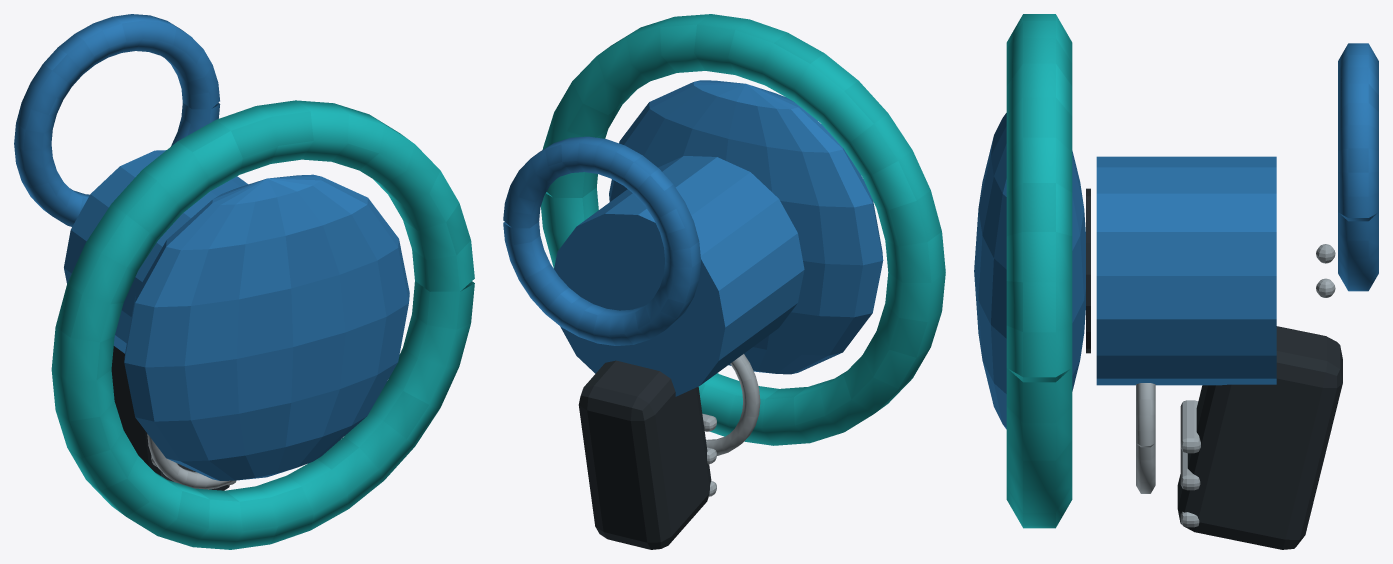
The model's file is bubble-shield.glb.
The picture shows the model from 3 angles, left to right: view 1: azimuth 30°, elevation 25°; view 2: azimuth 150°, elevation 25°; view 3: azimuth 270°, elevation 25°; orthographic projection. The views are drawn at different scales.
Parts seen in each view (by area): view 1: barrel; view 2: barrel; view 3: barrel.
Boxes of the visible parts, x1,y1,x2,y2 form: barrel: (14,14,474,549); barrel: (503,14,945,549); barrel: (974,14,1378,549).
Size of the model in its own units: 0.6291 by 0.6735 by 0.495.
